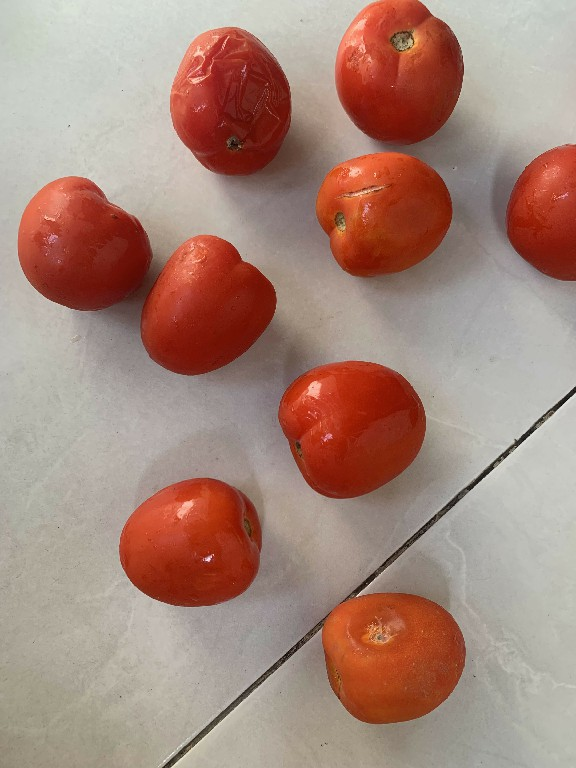NG: (320, 585, 474, 728), (312, 142, 461, 283), (166, 20, 295, 179)
OK: (274, 352, 433, 500), (321, 3, 470, 150), (13, 168, 151, 316), (114, 474, 266, 608), (133, 232, 274, 367)
